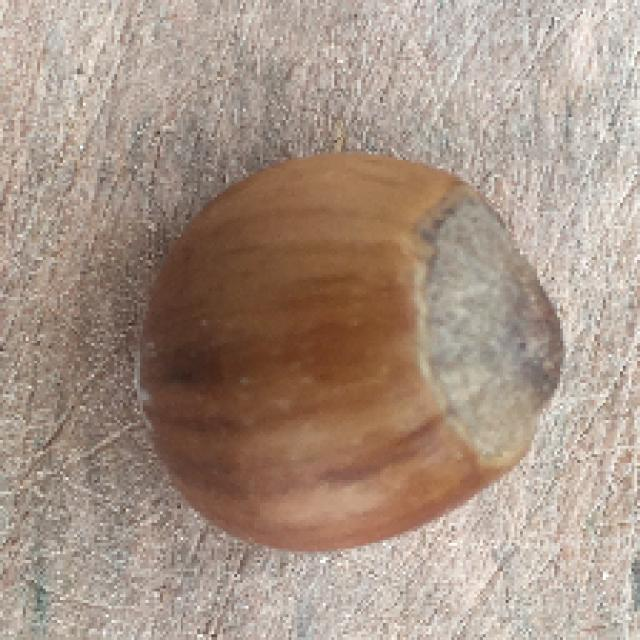damagedHazelnut: (138, 138, 569, 562)
